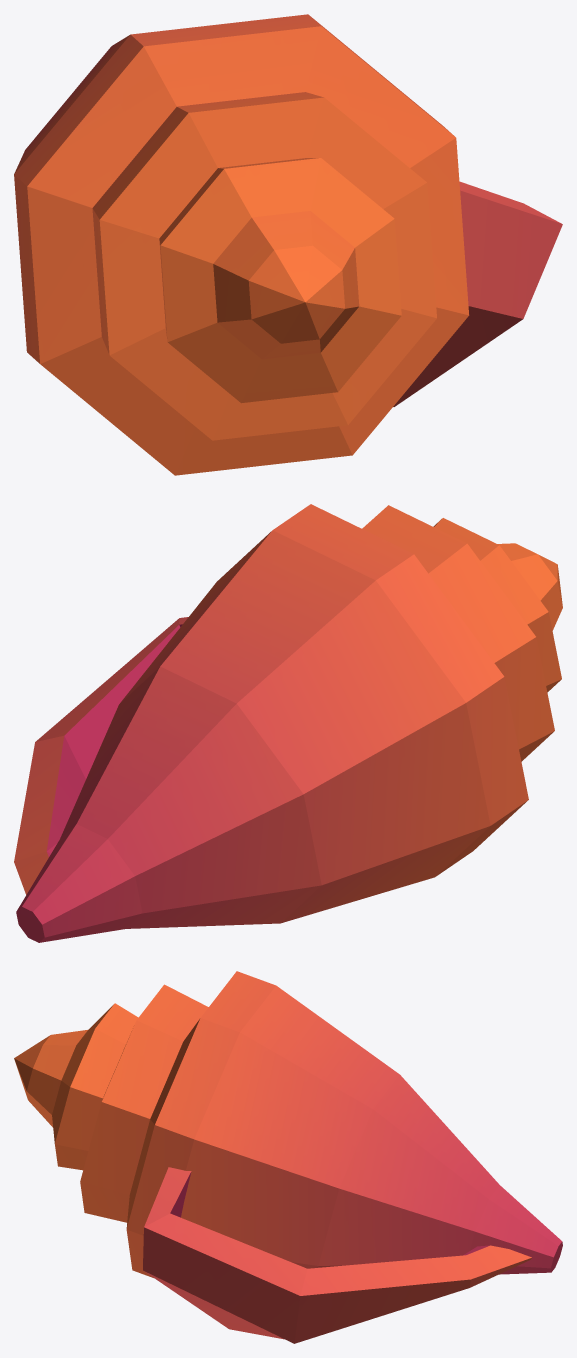
The model's file is SeaShell_2.fbx.
3 views of the same model, one above another, from view 1: azimuth 30°, elevation 25°; view 2: azimuth 150°, elevation 25°; view 3: azimuth 270°, elevation 25° (orthographic). The views are drawn at different scales.
Parts seen in each view (by area): view 1: SeaShell_2; view 2: SeaShell_2; view 3: SeaShell_2.
Part boxes in pixels (bbox=[...]): SeaShell_2: bbox=[14, 14, 562, 475]; SeaShell_2: bbox=[14, 504, 562, 942]; SeaShell_2: bbox=[14, 971, 562, 1343].
Size of the model in its own units: 182 by 139 by 246.
